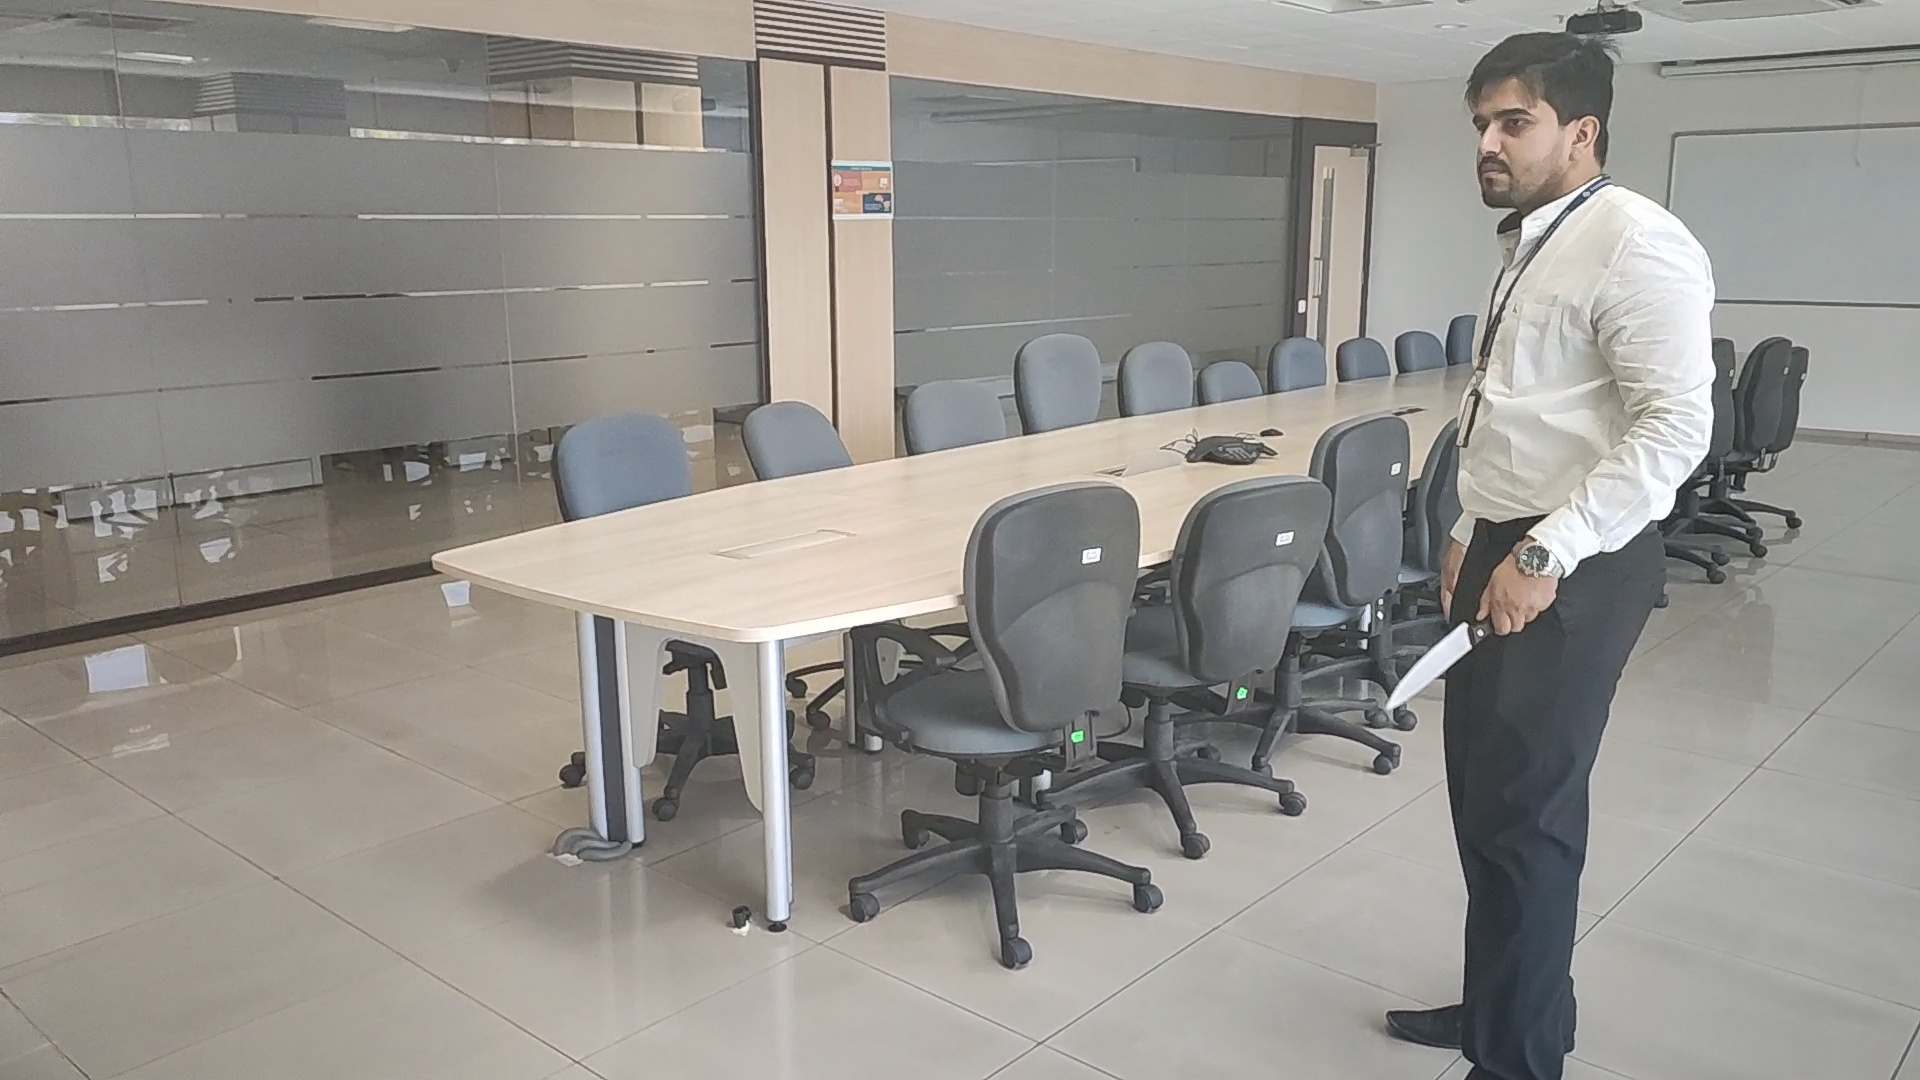knife: (1385, 622, 1480, 711)
